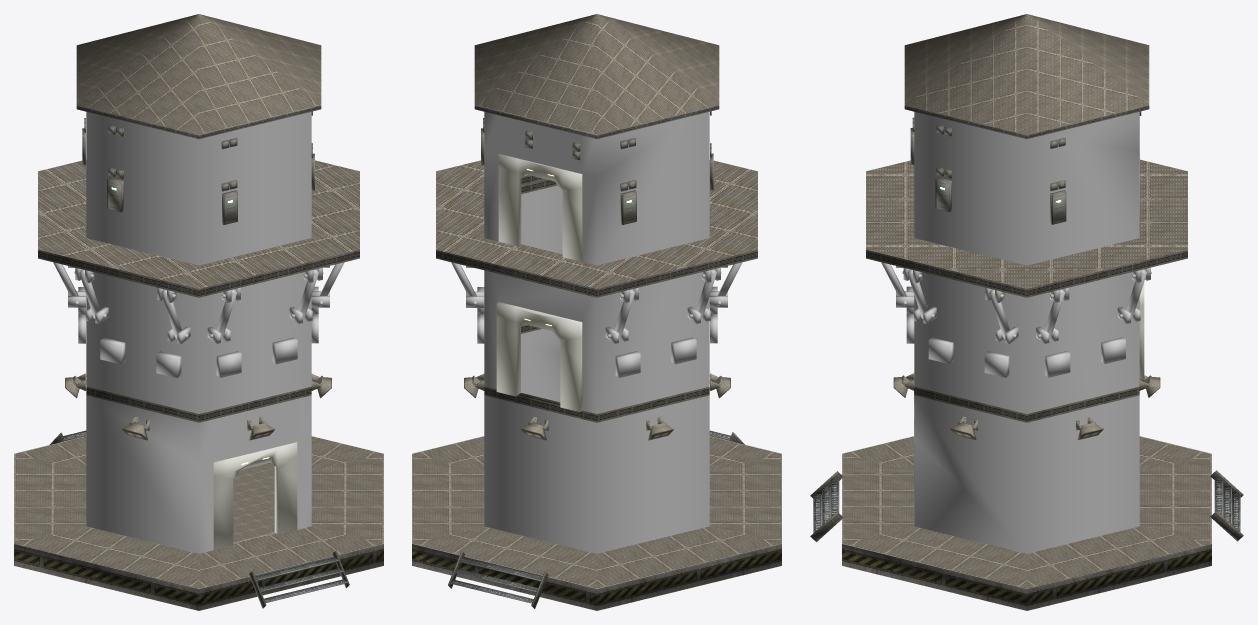
Rendered from tower_lod.fbx.
3 views of the same model, side by side, from view 1: azimuth 30°, elevation 25°; view 2: azimuth 150°, elevation 25°; view 3: azimuth 270°, elevation 25° (orthographic).
Visible parts, largest first — view 1: Mesh; view 2: Mesh; view 3: Mesh.
Boxes of the visible parts, left/top/right/bottom form: Mesh: left=14, top=14, right=383, bottom=610; Mesh: left=412, top=14, right=781, bottom=610; Mesh: left=810, top=14, right=1243, bottom=610.
Bounding box in the file's own units: 886 × 1162 × 899.
